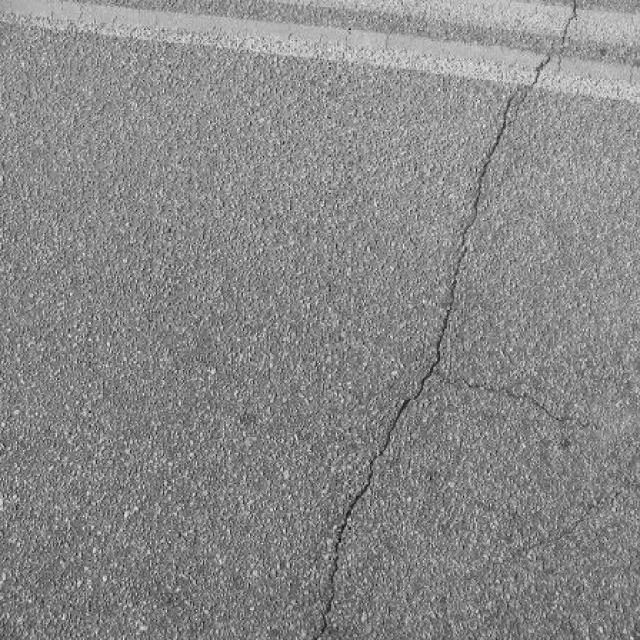Crack: (320, 2, 604, 639), (510, 493, 620, 559)
